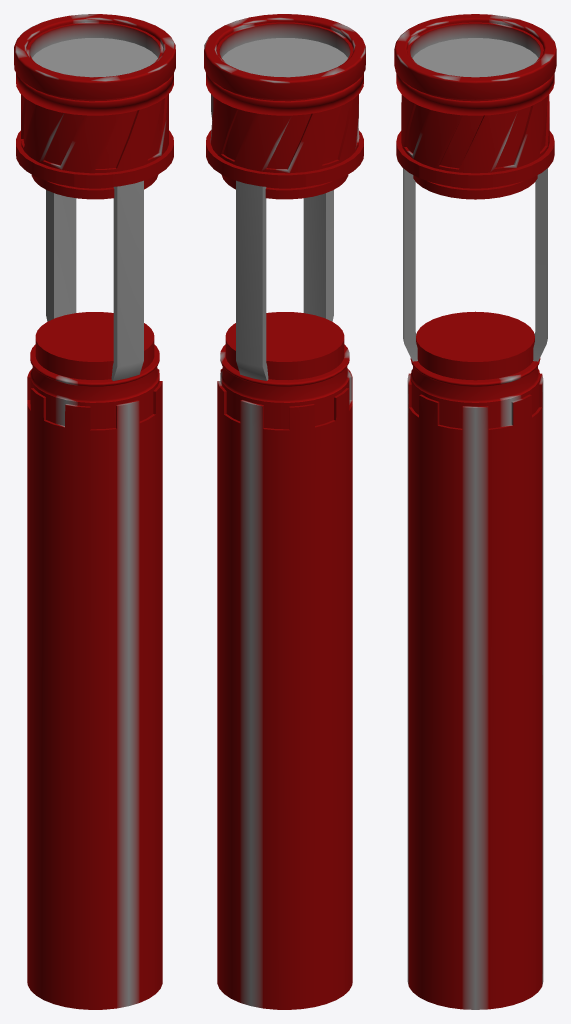
File: MoonBaboon_CorePillar_01.gltf
3 views of the same model, side by side, from view 1: azimuth 30°, elevation 25°; view 2: azimuth 150°, elevation 25°; view 3: azimuth 270°, elevation 25° (orthographic).
Visible parts, largest first — view 1: MoonBaboon_CorePillar_01; view 2: MoonBaboon_CorePillar_01; view 3: MoonBaboon_CorePillar_01.
Boxes of the visible parts, box(x1,y1,x2,y2) form: MoonBaboon_CorePillar_01: box(14, 14, 175, 1009); MoonBaboon_CorePillar_01: box(204, 14, 365, 1009); MoonBaboon_CorePillar_01: box(394, 14, 556, 1009).
Size of the model in its own units: 2.73 by 17.3 by 2.73.
